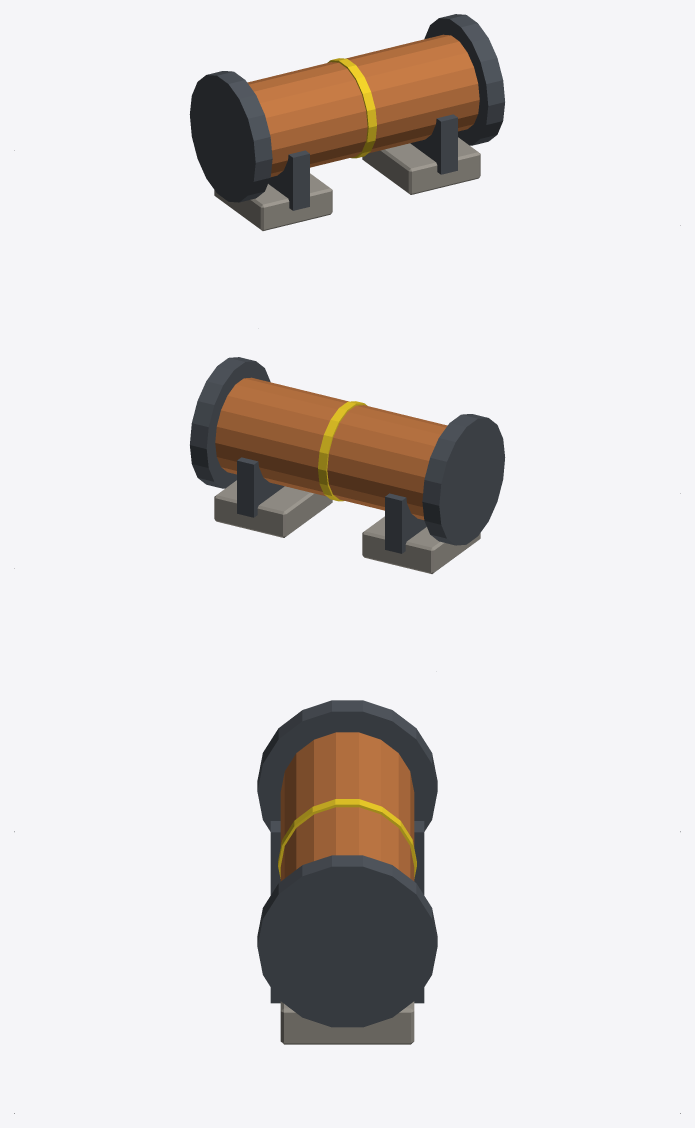
File: tuyau_seul_t1.glb
3 views of the same model, one above another, from view 1: azimuth 30°, elevation 25°; view 2: azimuth 150°, elevation 25°; view 3: azimuth 270°, elevation 25° (orthographic). The views are drawn at different scales.
Parts seen in each view (by area): view 1: pieces_cuivre.016, pieces_acier_sombre.044, pieces_beton.044, pieces_rive_t1.014; view 2: pieces_cuivre.016, pieces_acier_sombre.044, pieces_beton.044, pieces_rive_t1.014; view 3: pieces_acier_sombre.044, pieces_cuivre.016, pieces_beton.044, pieces_rive_t1.014.
Boxes of the visible parts, x1,y1,x2,y2 form: pieces_cuivre.016: (247, 34, 479, 176); pieces_acier_sombre.044: (189, 14, 504, 210); pieces_beton.044: (214, 137, 480, 230); pieces_rive_t1.014: (327, 58, 376, 158); pieces_cuivre.016: (215, 377, 447, 519); pieces_acier_sombre.044: (190, 357, 505, 553); pieces_beton.044: (214, 480, 480, 573); pieces_rive_t1.014: (318, 401, 367, 501); pieces_acier_sombre.044: (257, 700, 437, 1027); pieces_cuivre.016: (280, 732, 414, 881); pieces_beton.044: (280, 1001, 414, 1044); pieces_rive_t1.014: (278, 799, 416, 878).
Bounding box in the file's own units: 1 × 0.3129 × 1.
